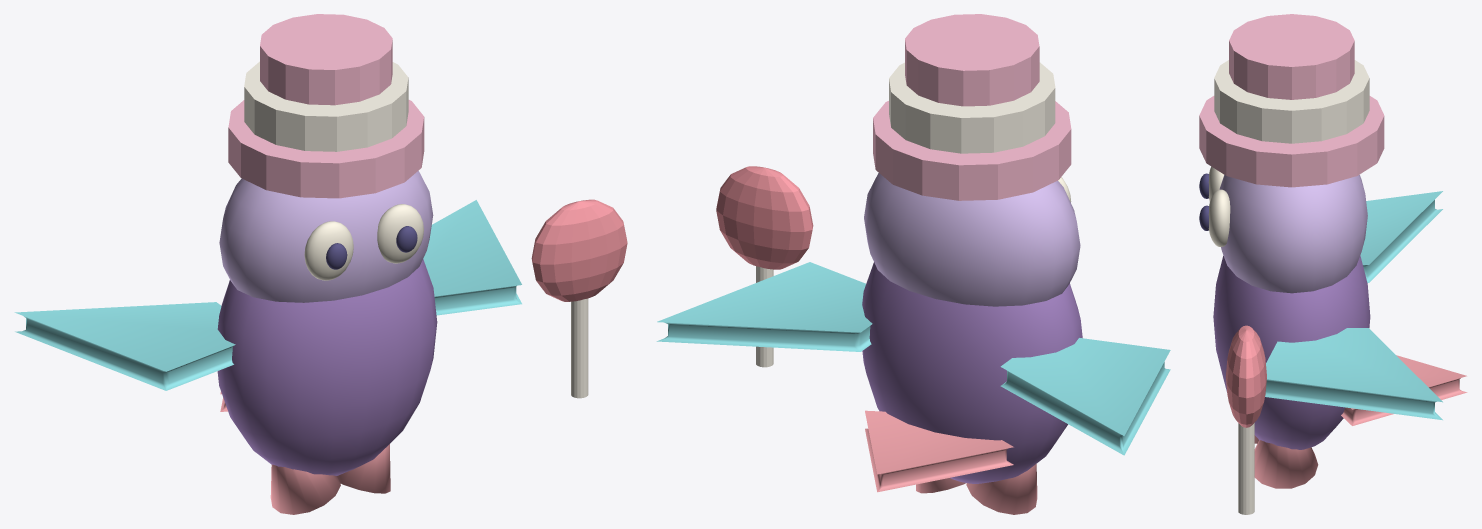
File: opera_rival_candymaker.glb
3 renders of one model, left to right at view 1: azimuth 30°, elevation 25°; view 2: azimuth 150°, elevation 25°; view 3: azimuth 270°, elevation 25°, orthographic. The views are drawn at different scales.
Parts seen in each view (by area): view 1: RivalImpBody, CandyHatTier2, CandyHatTier0, CandyHatTier1, CandyLollipop, CandyStick; view 2: RivalImpBody, CandyHatTier2, CandyHatTier0, CandyHatTier1, CandyLollipop, CandyStick; view 3: RivalImpBody, CandyHatTier2, CandyHatTier0, CandyHatTier1, CandyLollipop, CandyStick.
Part boxes in pixels (left/top/right/bottom): RivalImpBody: left=14, top=171, right=521, bottom=514; CandyHatTier2: left=260, top=14, right=392, bottom=105; CandyHatTier0: left=228, top=100, right=424, bottom=198; CandyHatTier1: left=244, top=61, right=408, bottom=151; CandyLollipop: left=531, top=199, right=627, bottom=301; CandyStick: left=571, top=298, right=588, bottom=398; RivalImpBody: left=656, top=173, right=1170, bottom=514; CandyHatTier2: left=905, top=14, right=1039, bottom=106; CandyHatTier0: left=873, top=101, right=1071, bottom=200; CandyHatTier1: left=889, top=62, right=1055, bottom=153; CandyLollipop: left=716, top=166, right=813, bottom=269; CandyStick: left=756, top=266, right=773, bottom=367; RivalImpBody: left=1199, top=166, right=1467, bottom=488; CandyHatTier2: left=1229, top=14, right=1354, bottom=99; CandyHatTier0: left=1199, top=96, right=1384, bottom=187; CandyHatTier1: left=1214, top=60, right=1369, bottom=143; CandyLollipop: left=1225, top=325, right=1266, bottom=427; CandyStick: left=1238, top=423, right=1254, bottom=514.
Size of the model in its own units: 6.65 by 5.65 by 3.25.
